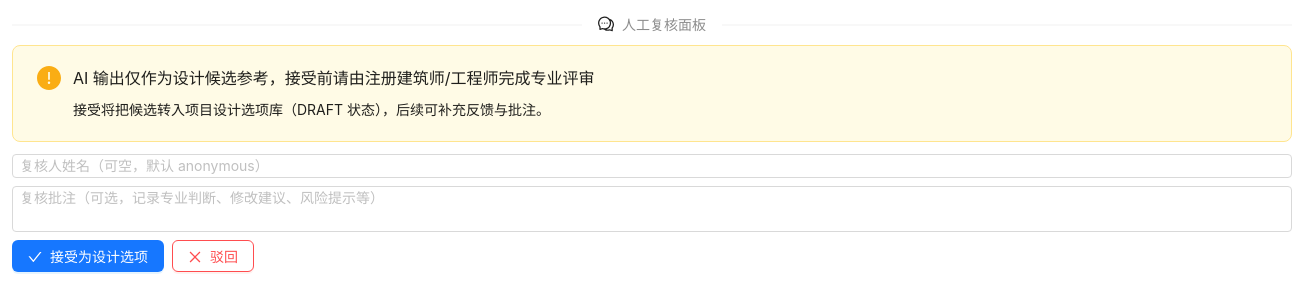
Test case: CandidateReviewPanel › 点击驳回后应显示已驳回结果
Click the button "驳回". click: x=213, y=256
box: top-left (172, 240), bottom-right (254, 272)
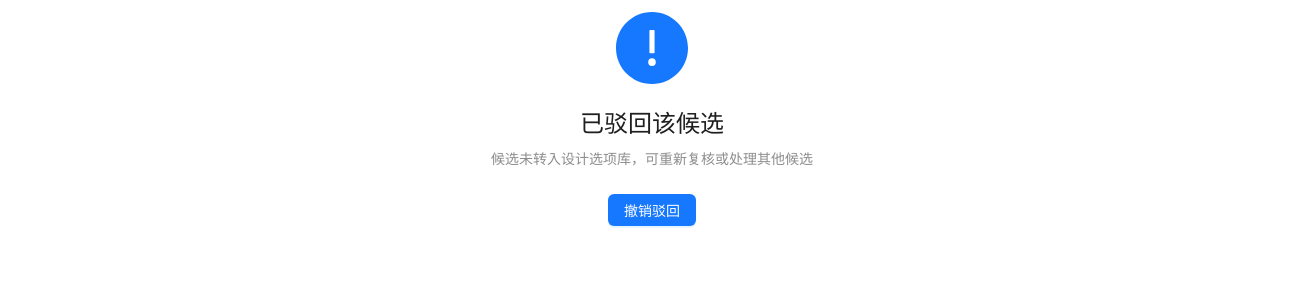
Now the text "已驳回该候选" is shown, box top-left (580, 109), bottom-right (724, 138)
Now the text "撤销驳回" is shown, box top-left (624, 200), bottom-right (680, 220)
